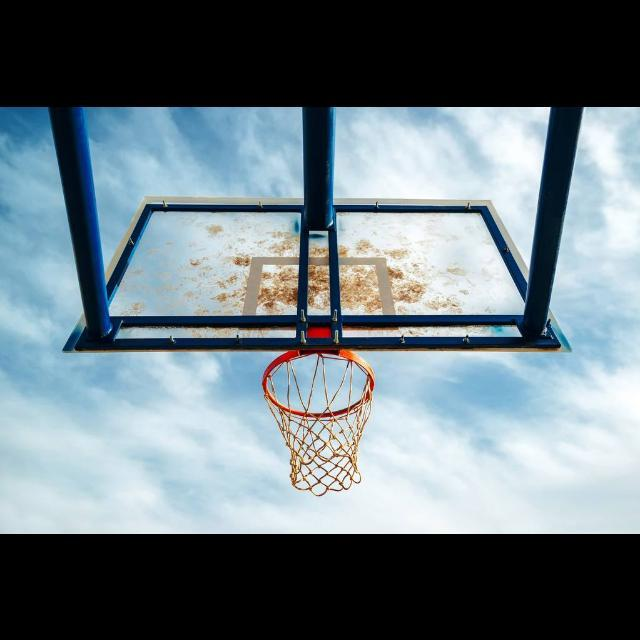rim: (262, 350, 374, 490)
